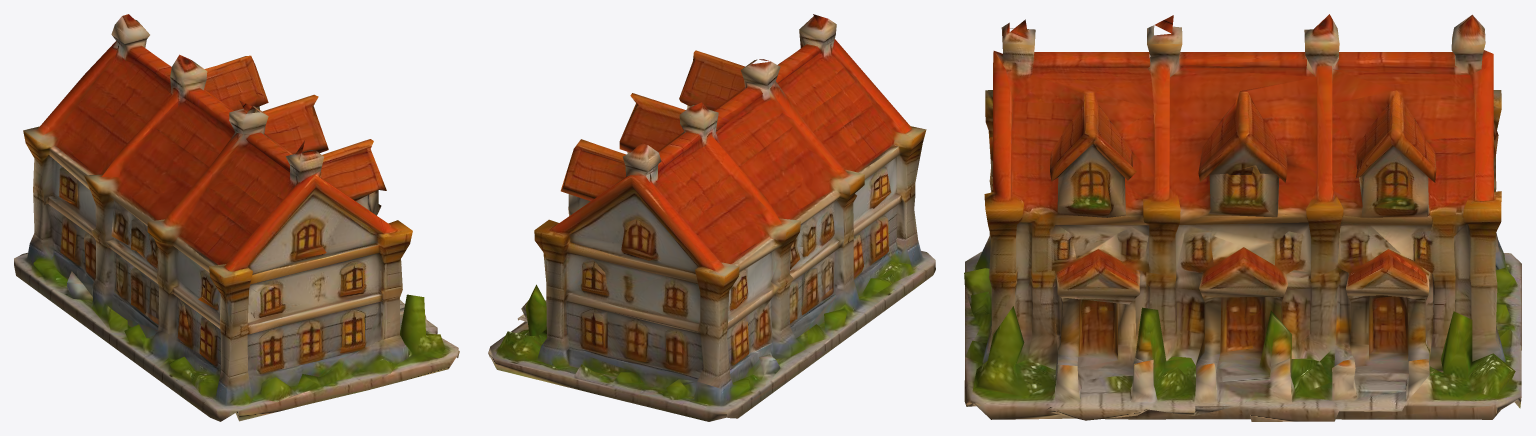
Rendered from house_row.glb.
The picture shows the model from 3 angles, left to right: view 1: azimuth 30°, elevation 25°; view 2: azimuth 150°, elevation 25°; view 3: azimuth 270°, elevation 25°; orthographic projection. The views are drawn at different scales.
Visible parts, largest first — view 1: tripo_node_fa5c89f3-d5ea-4b32-a72c-8068a2642936; view 2: tripo_node_fa5c89f3-d5ea-4b32-a72c-8068a2642936; view 3: tripo_node_fa5c89f3-d5ea-4b32-a72c-8068a2642936.
Part boxes in pixels (x1,y1,x2,y2): tripo_node_fa5c89f3-d5ea-4b32-a72c-8068a2642936: [14, 14, 459, 421]; tripo_node_fa5c89f3-d5ea-4b32-a72c-8068a2642936: [488, 14, 935, 421]; tripo_node_fa5c89f3-d5ea-4b32-a72c-8068a2642936: [964, 14, 1521, 421].
Bounding box in the file's own units: 1.25 × 1.14 × 1.84.
1 material, 1 textured.
